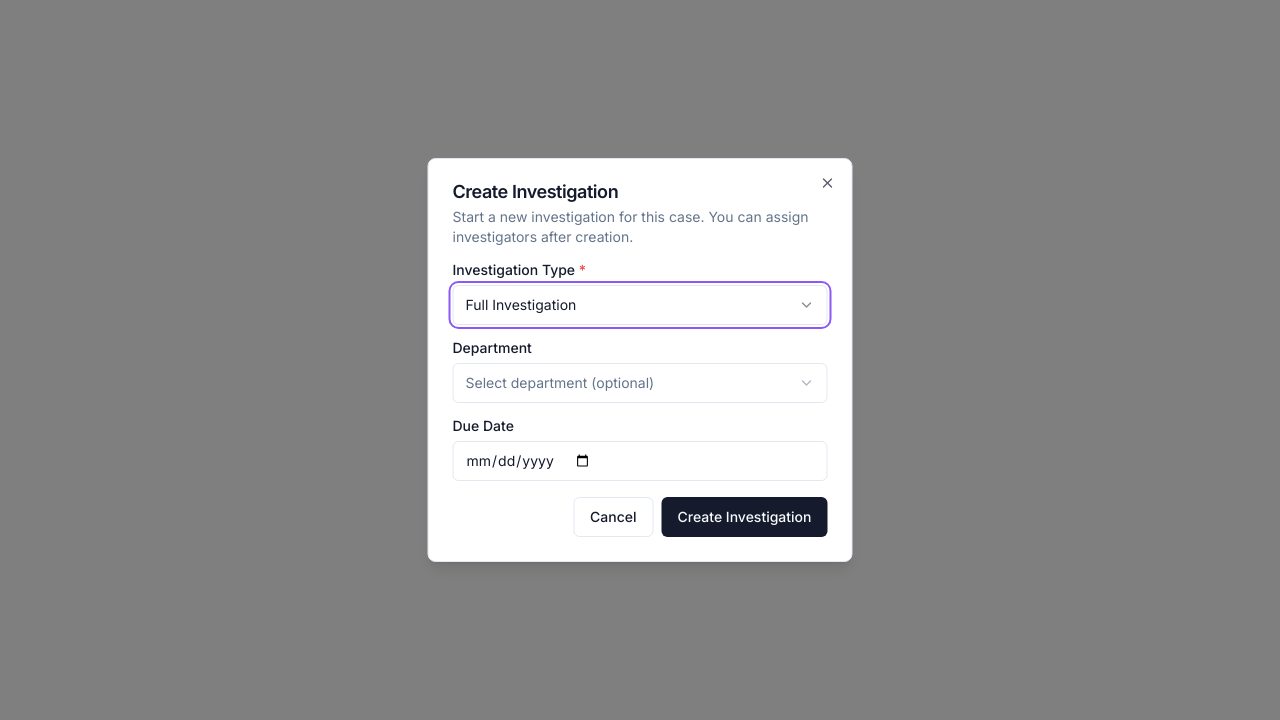
it: CreateInvestigationDialog › shows loading state during submission
Click the button with test id "submit-button". click: (744, 517)
box: [662,497,828,537]
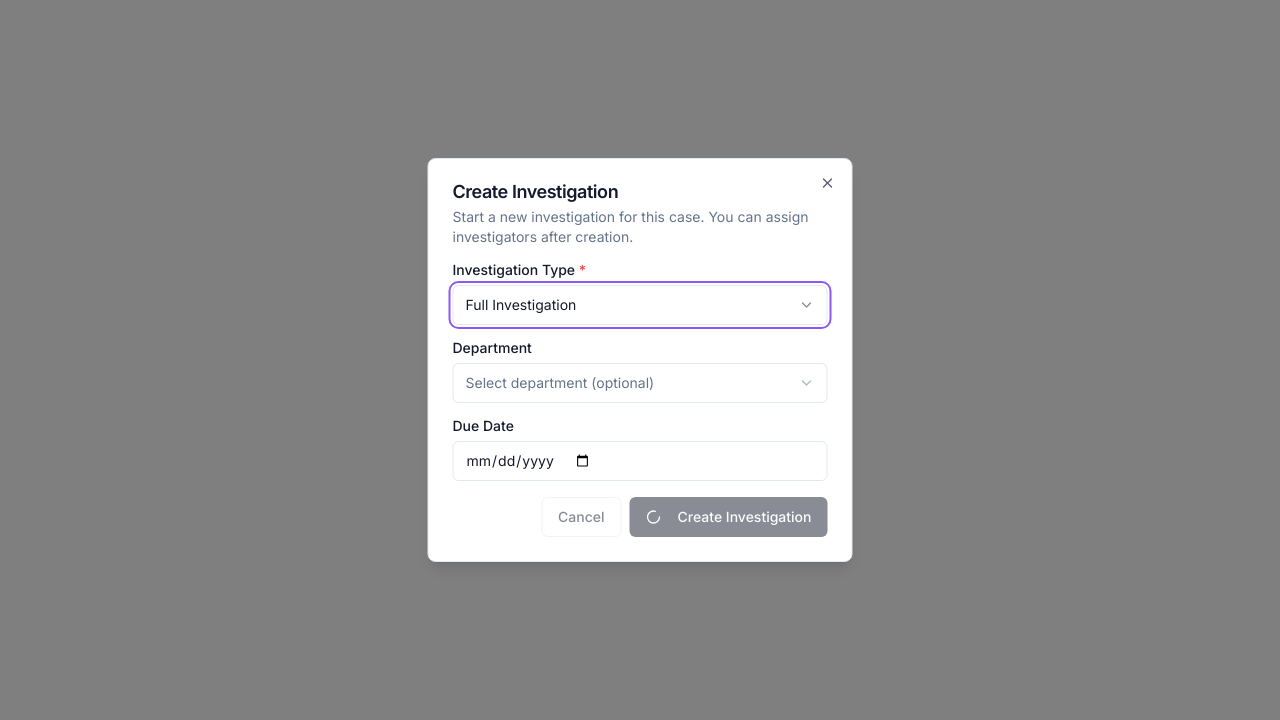
Now the button with test id "submit-button" is disabled, box [630,497,828,537]
